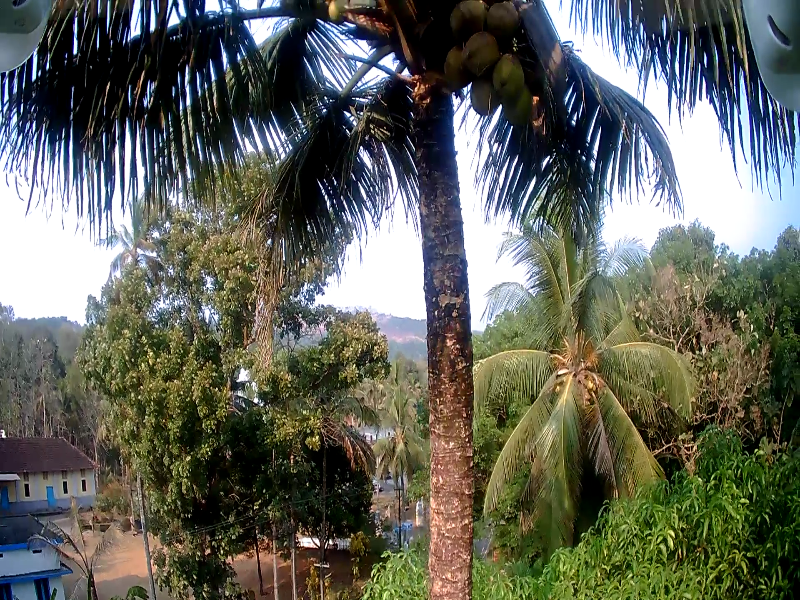coconut: (467, 32, 500, 70), (491, 58, 520, 100), (329, 4, 355, 33), (468, 83, 488, 114), (488, 7, 511, 31), (461, 1, 483, 22), (441, 57, 469, 71), (501, 94, 519, 115)
